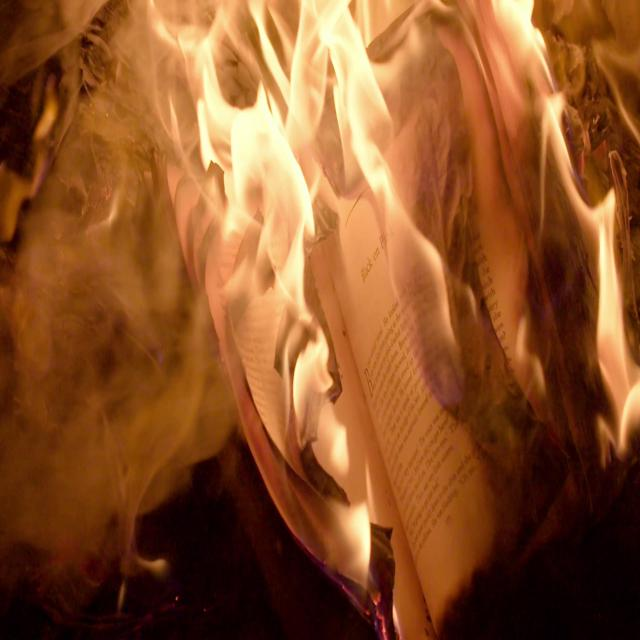Fire: (191, 0, 359, 471), (302, 10, 472, 413), (517, 6, 598, 257), (594, 190, 640, 459), (299, 501, 373, 620)
Smoke: (0, 14, 238, 615)
